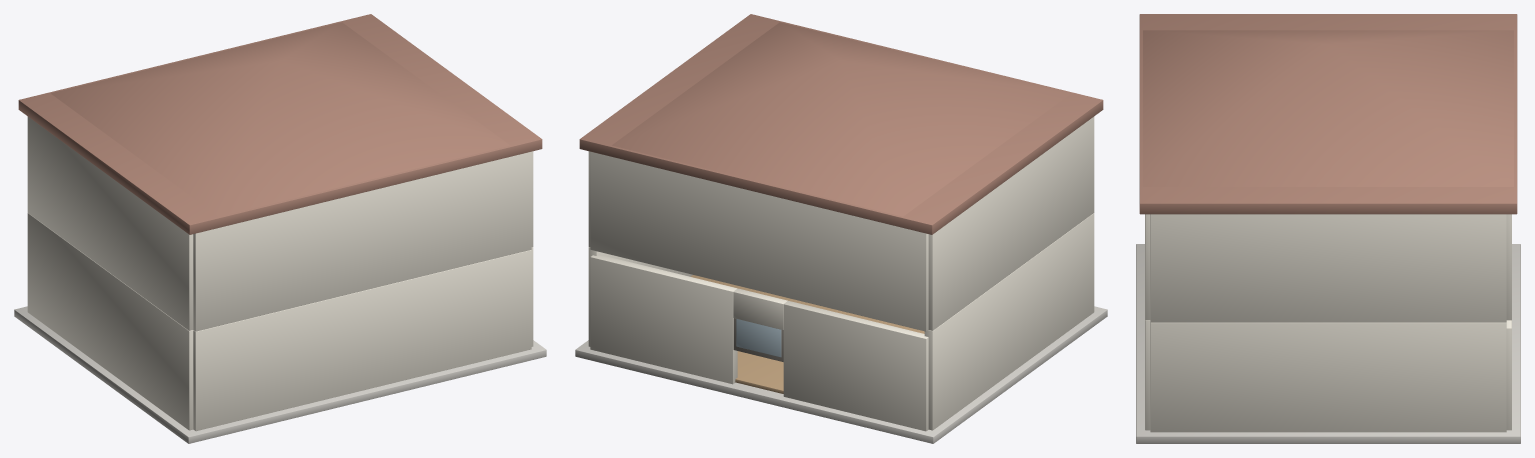
Rendered from th8_stadthaus_offen.glb.
The picture shows the model from 3 angles, left to right: view 1: azimuth 30°, elevation 25°; view 2: azimuth 150°, elevation 25°; view 3: azimuth 270°, elevation 25°; orthographic projection. The views are drawn at different scales.
Visible parts, largest first — view 1: Cone, Cube.005, Cube.030, Cube.006, Cube.069, Cube.031, Cube; view 2: Cone, Cube.029, Cube.006, Cube.069, Cube.031, Cube.002, Cube.003, Cube, Cube.001, Cube.004, Cube.011, Cube.007; view 3: Cone, Cube.007, Cube.032, Cube.069, Cube, Cube.003, Cube.005, Cube.029, Cube.030.
Boxes of the visible parts, bbox=[...] form: Cone: bbox=[51, 22, 509, 216]; Cube.005: bbox=[193, 250, 531, 431]; Cube.030: bbox=[193, 151, 531, 331]; Cube.006: bbox=[27, 213, 193, 430]; Cube.069: bbox=[18, 14, 542, 234]; Cube.031: bbox=[27, 116, 193, 330]; Cube: bbox=[14, 306, 546, 443]; Cone: bbox=[612, 22, 1070, 216]; Cube.029: bbox=[590, 151, 928, 331]; Cube.006: bbox=[924, 213, 1094, 430]; Cube.069: bbox=[579, 14, 1103, 234]; Cube.031: bbox=[928, 116, 1094, 330]; Cube.002: bbox=[783, 301, 928, 431]; Cube.003: bbox=[590, 254, 737, 384]; Cube: bbox=[575, 306, 1107, 443]; Cube.001: bbox=[690, 275, 924, 393]; Cube.004: bbox=[733, 288, 787, 329]; Cube.011: bbox=[736, 319, 781, 357]; Cube.007: bbox=[588, 247, 692, 346]; Cone: bbox=[1143, 30, 1513, 186]; Cube.007: bbox=[1150, 322, 1506, 432]; Cube.032: bbox=[1150, 214, 1506, 322]; Cube.069: bbox=[1139, 14, 1517, 214]; Cube: bbox=[1136, 244, 1520, 443]; Cube.003: bbox=[1506, 320, 1511, 430]; Cube.005: bbox=[1145, 320, 1150, 430]; Cube.029: bbox=[1506, 214, 1511, 320]; Cube.030: bbox=[1145, 214, 1150, 320].
Bounding box in the file's own units: 12.8 × 9.39 × 10.8.
